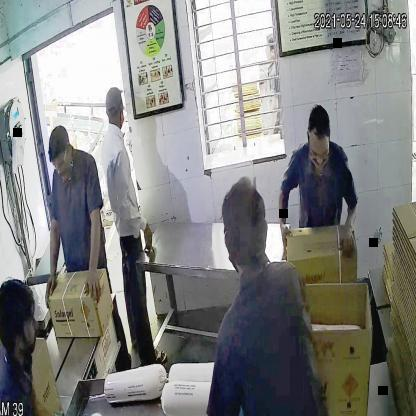goggles: (305, 139, 330, 165), (51, 150, 70, 171)
